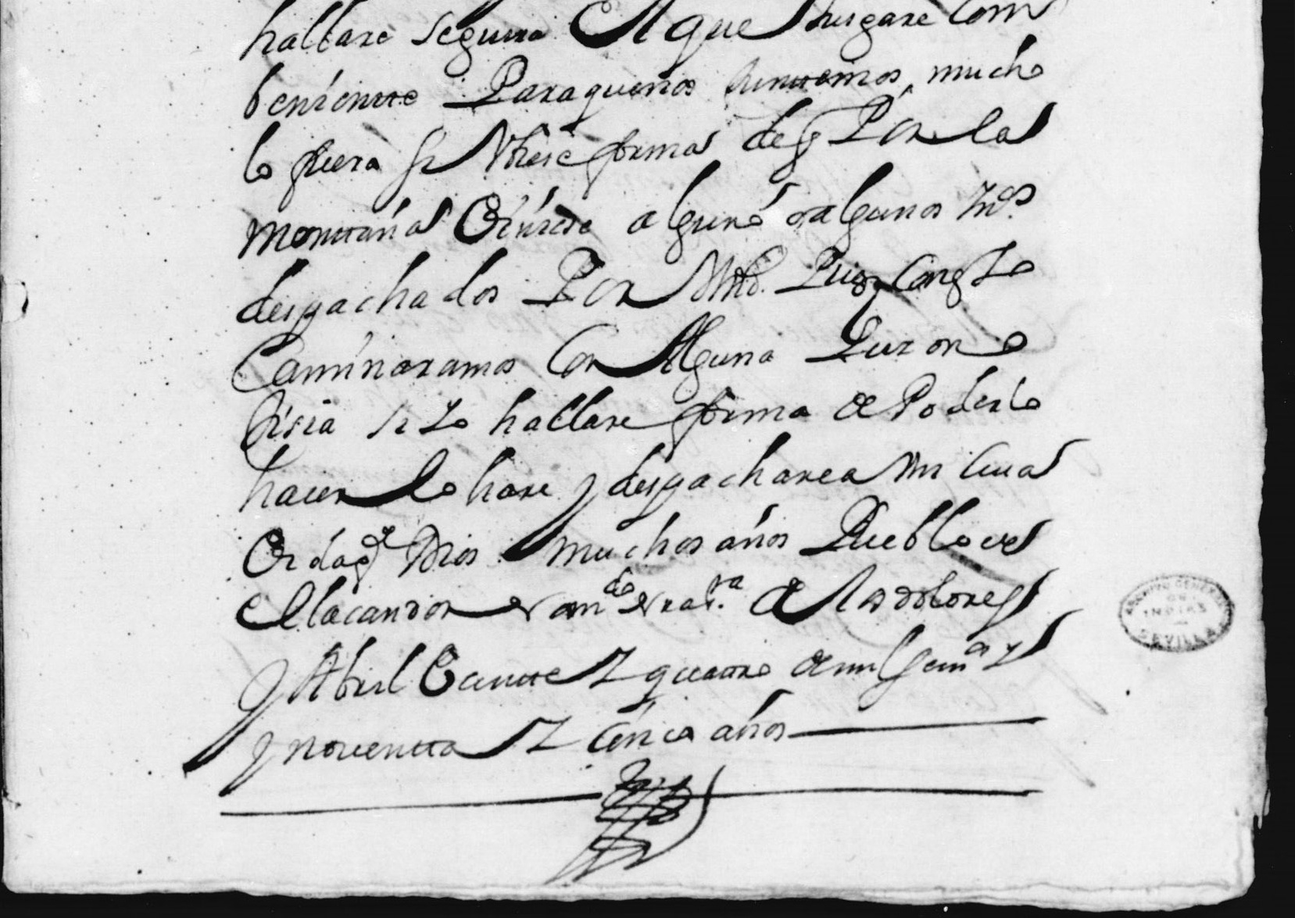lacandon: (307, 575, 566, 627)
